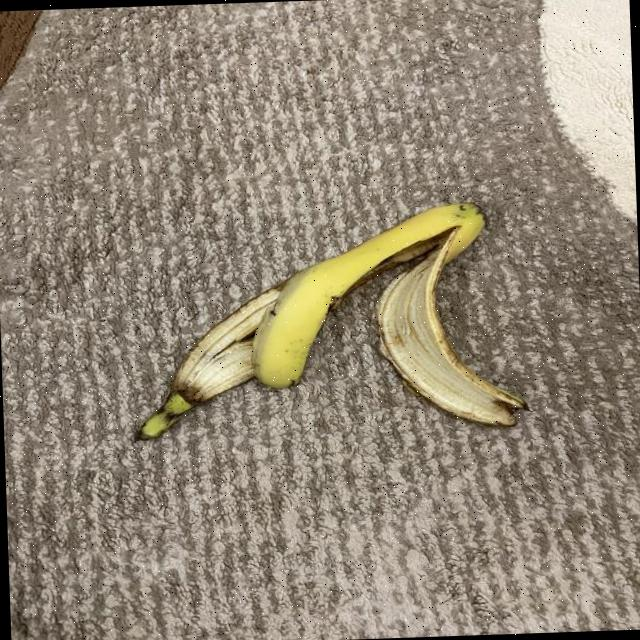banana-peel: (127, 196, 529, 442), (243, 200, 490, 390), (371, 224, 530, 432), (130, 282, 289, 441)
